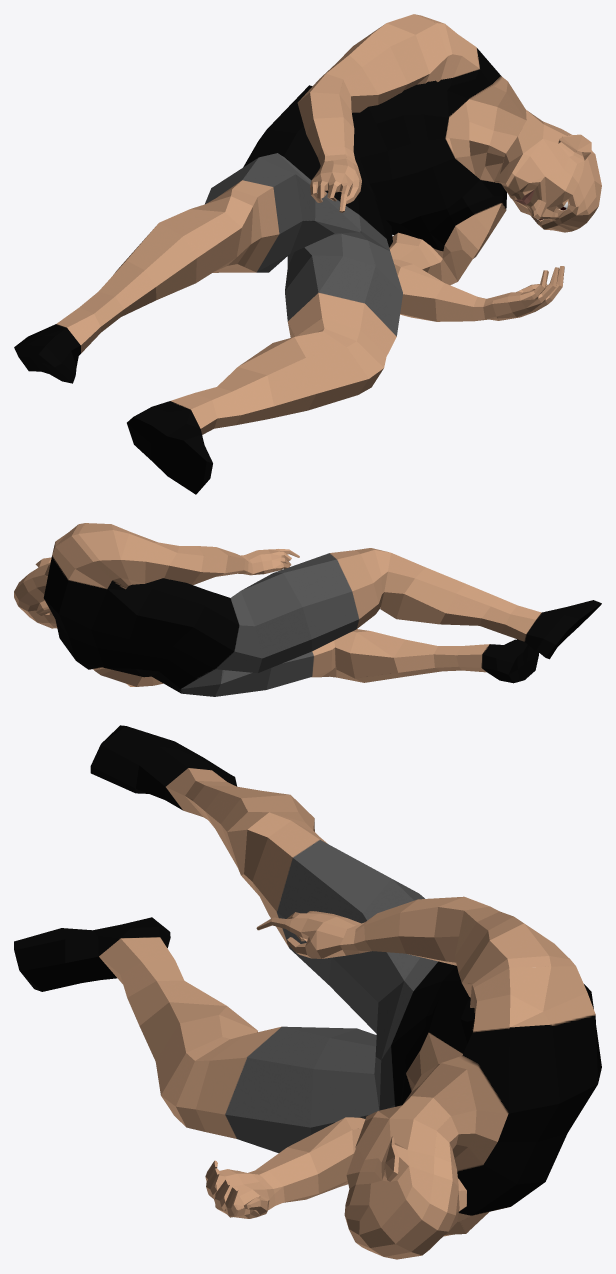
The model's file is PlayerDead(60).obj.
The picture shows the model from 3 angles, top to bottom: view 1: azimuth 30°, elevation 25°; view 2: azimuth 150°, elevation 25°; view 3: azimuth 270°, elevation 25°; orthographic projection. The views are drawn at different scales.
Parts seen in each view (by area): view 1: Plane002; view 2: Plane002; view 3: Plane002.
Boxes of the visible parts, x1=… form: Plane002: x1=14, y1=14, x2=601, y2=494; Plane002: x1=14, y1=523, x2=601, y2=696; Plane002: x1=14, y1=725, x2=601, y2=1259.
Bounding box in the file's own units: 1617 × 552 × 955.
